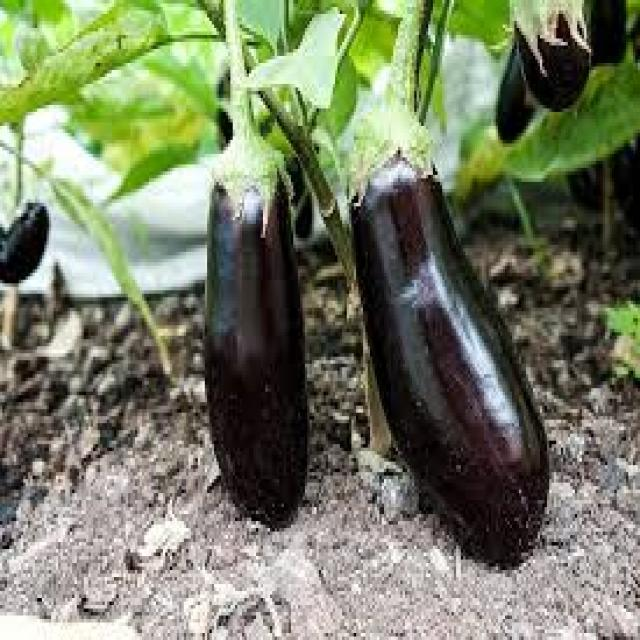Eggplant: (347, 25, 556, 568), (204, 38, 308, 528), (493, 0, 572, 148), (508, 0, 592, 108), (0, 192, 53, 290)
